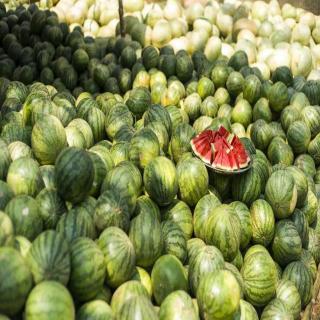Watermelon: (0, 3, 320, 319), (177, 156, 210, 202)
